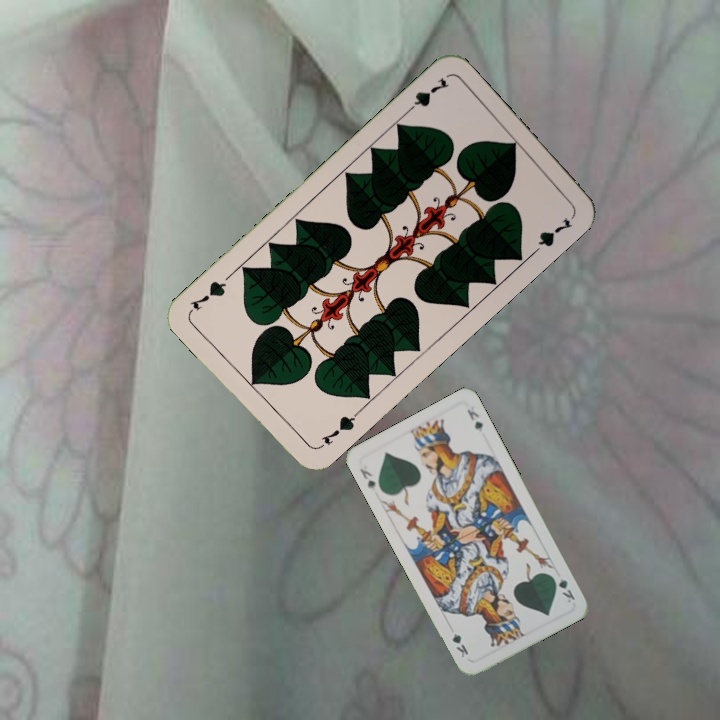G7: (400, 73, 452, 118), (313, 407, 361, 452)
GK: (548, 571, 578, 606), (355, 464, 378, 491)
